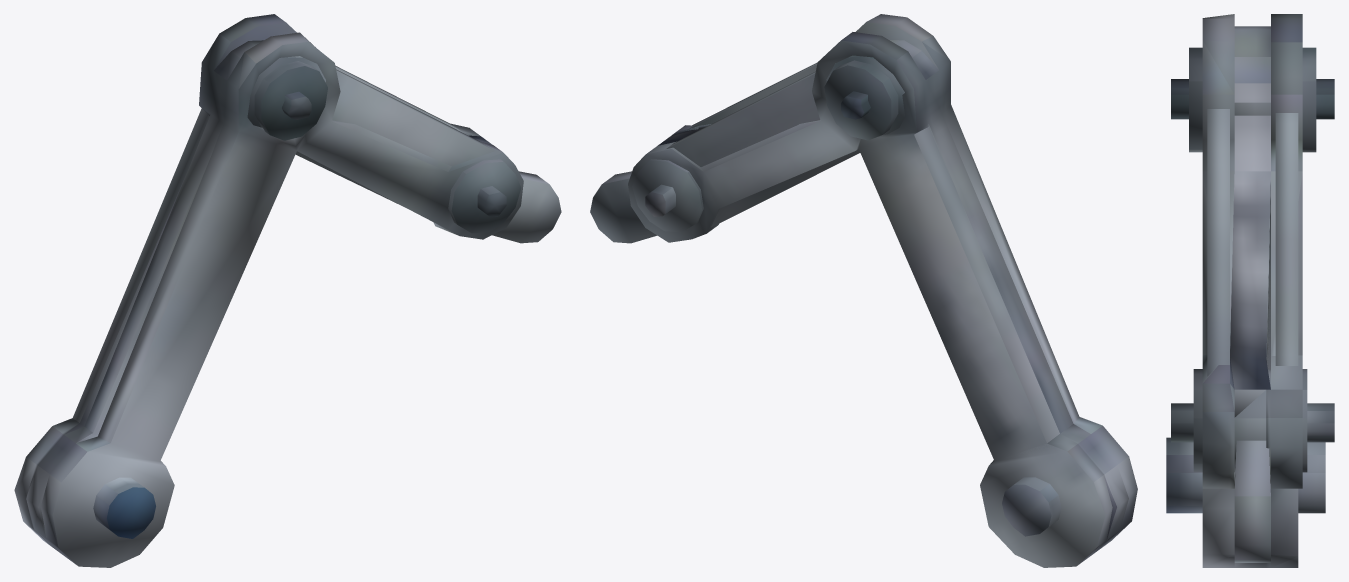
The model's file is 整備庫_06_機械臂A.glb.
3 views of the same model, side by side, from view 1: azimuth 30°, elevation 25°; view 2: azimuth 150°, elevation 25°; view 3: azimuth 270°, elevation 25° (orthographic). The views are drawn at different scales.
Visible parts, largest first — view 1: 06_機械臂A; view 2: 06_機械臂A; view 3: 06_機械臂A.
Part boxes in pixels (bbox=[...]): 06_機械臂A: bbox=[14, 14, 561, 567]; 06_機械臂A: bbox=[590, 14, 1137, 567]; 06_機械臂A: bbox=[1166, 14, 1334, 567].
Bounding box in the file's own units: 0.0879 × 0.0771 × 0.0181.
1 material, 1 textured.
